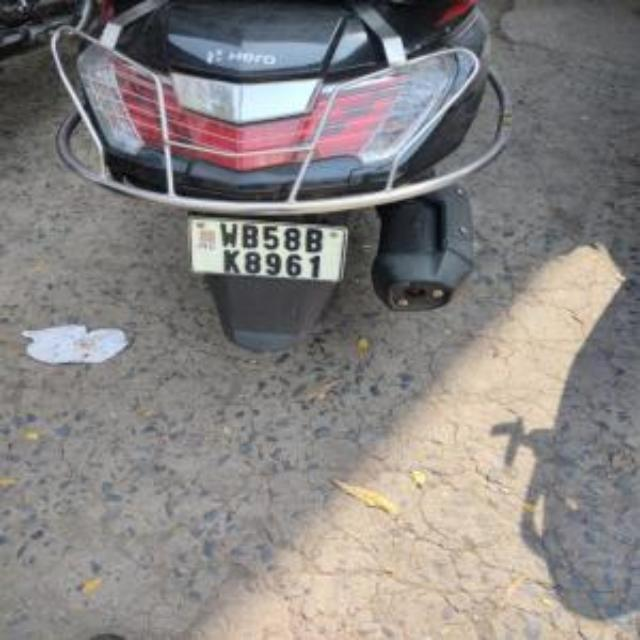License Plate: (185, 216, 345, 289)
